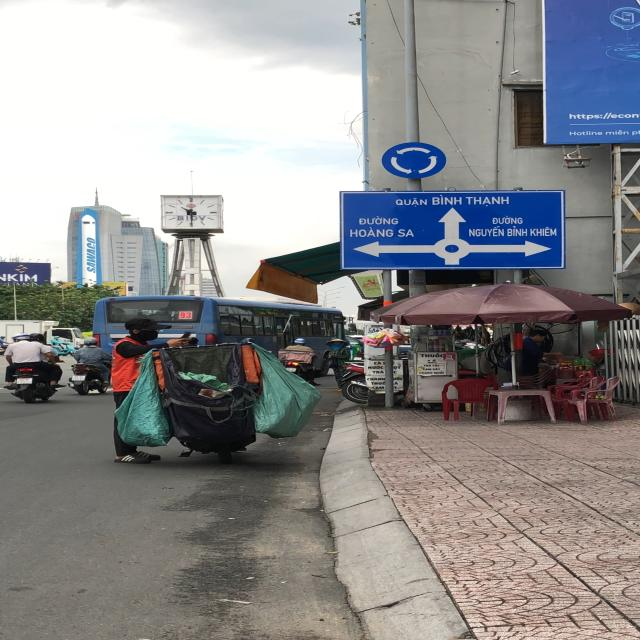Bien bao noi giao nhau chay theo vong xuyen: (380, 138, 452, 179)
